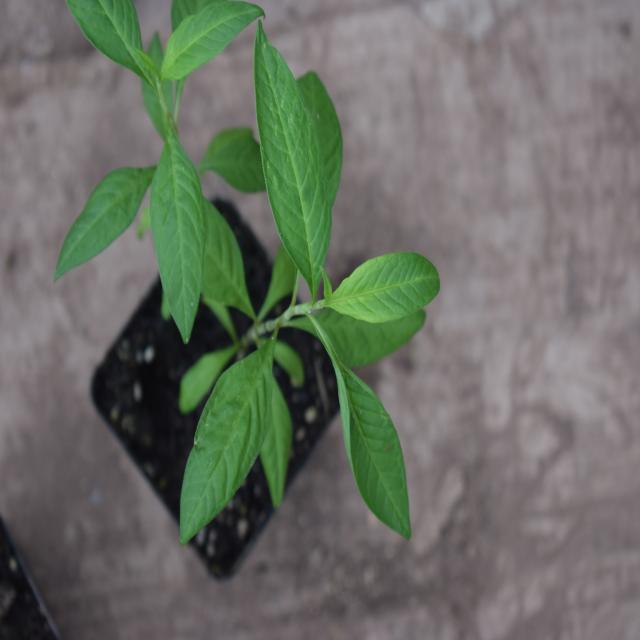white_smart_weed: (175, 32, 460, 553)
